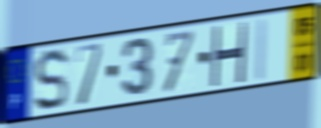3: (119, 36, 156, 99)
7: (163, 27, 196, 95), (74, 40, 103, 108)
H: (208, 21, 249, 88)
I: (253, 15, 270, 84)
S: (33, 47, 70, 114)
